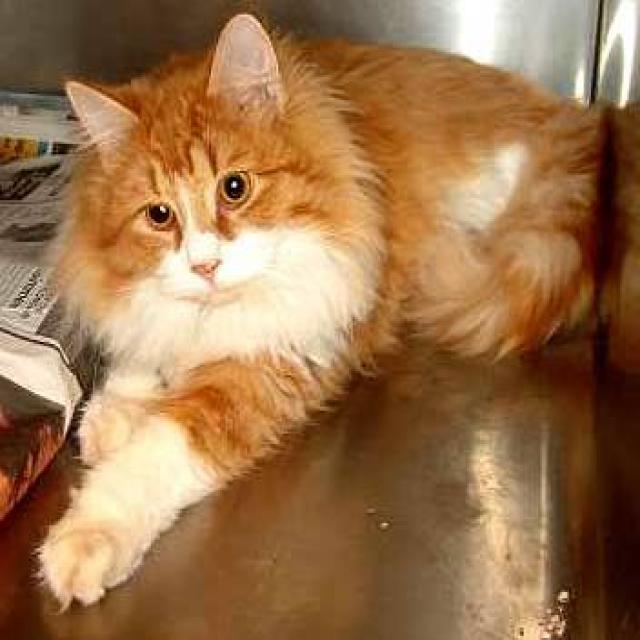cat: (31, 10, 638, 613)
